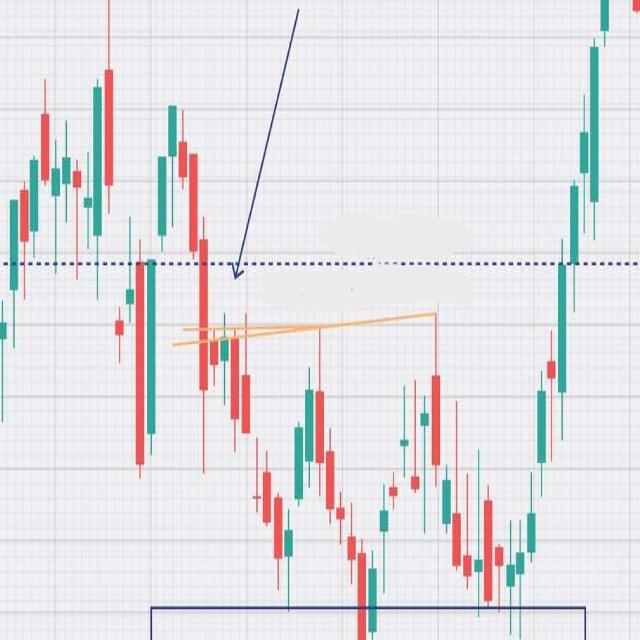Triple-Bottom: (240, 357, 550, 638)
